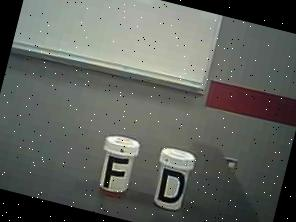Bottle D: (144, 140, 206, 220)
Bottle F: (87, 124, 148, 204)
